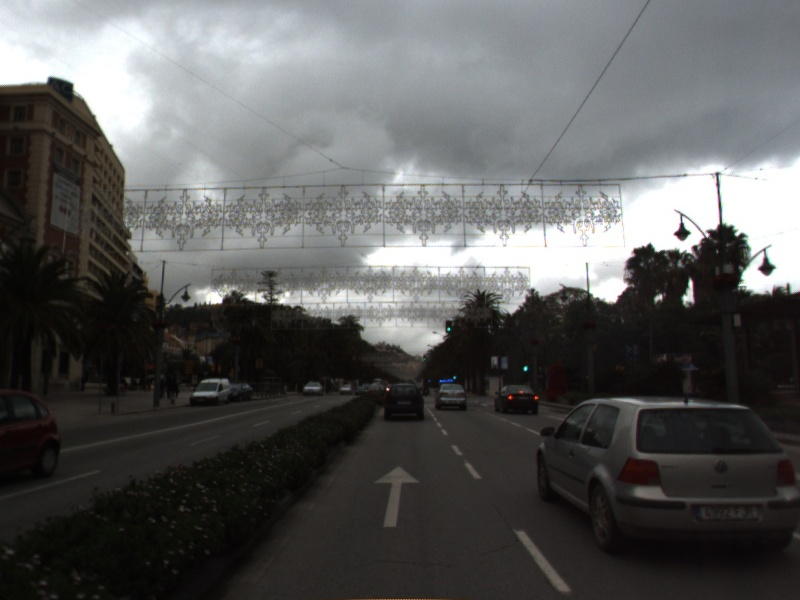STRAIGHT: (372, 463, 422, 529)
